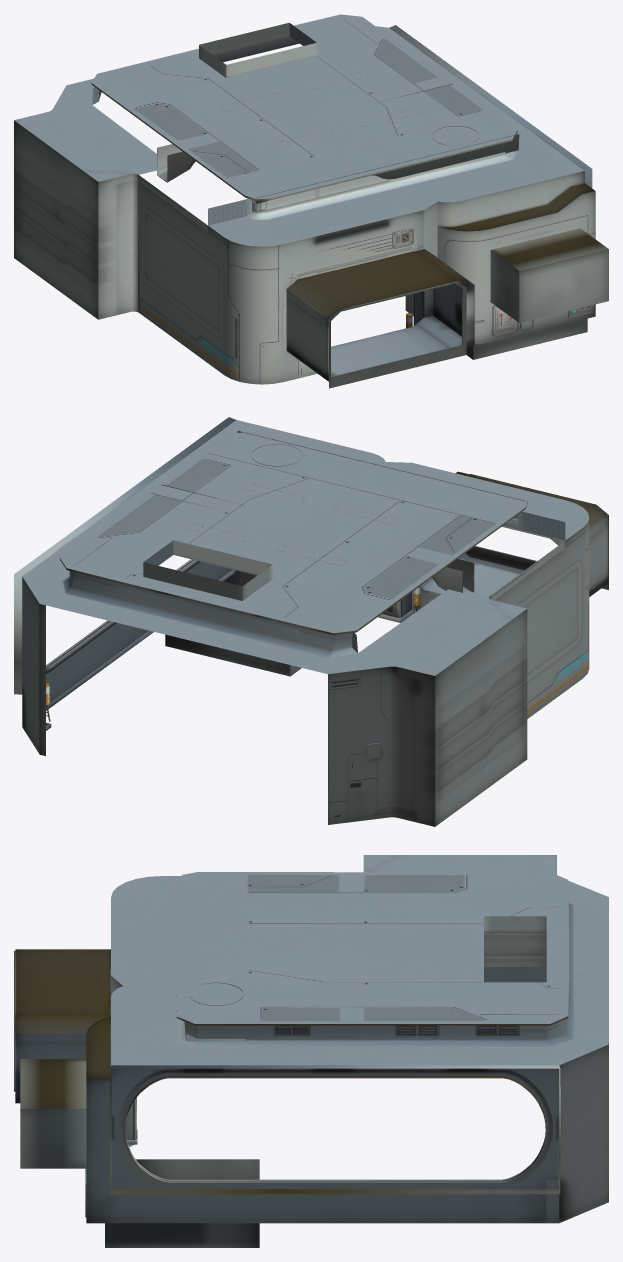
File: Pico_01.FBX
3 renders of one model, top to bottom at view 1: azimuth 30°, elevation 25°; view 2: azimuth 150°, elevation 25°; view 3: azimuth 270°, elevation 25°, orthographic. The views are drawn at different scales.
Parts seen in each view (by area): view 1: Pico_01_QiangTi, Pico_01_DingLiang_02, Pico_01_Chuang, Pico_01_DingLiang_01; view 2: Pico_01_QiangTi, Pico_01_Chuang, Pico_01_DingLiang_01, Pico_01_DingLiang_02; view 3: Pico_01_QiangTi, Pico_01_Chuang.
Boxes of the visible parts, x1,y1,x2,y2 form: Pico_01_QiangTi: (14, 14, 608, 388); Pico_01_DingLiang_02: (229, 113, 519, 203); Pico_01_Chuang: (389, 25, 592, 187); Pico_01_DingLiang_01: (157, 76, 452, 182); Pico_01_QiangTi: (22, 420, 608, 826); Pico_01_Chuang: (14, 417, 235, 694); Pico_01_DingLiang_01: (151, 484, 474, 592); Pico_01_DingLiang_02: (208, 431, 525, 523); Pico_01_QiangTi: (14, 855, 608, 1247); Pico_01_Chuang: (110, 1065, 560, 1194).
Bounding box in the file's own units: 1019 × 493 × 1195.
